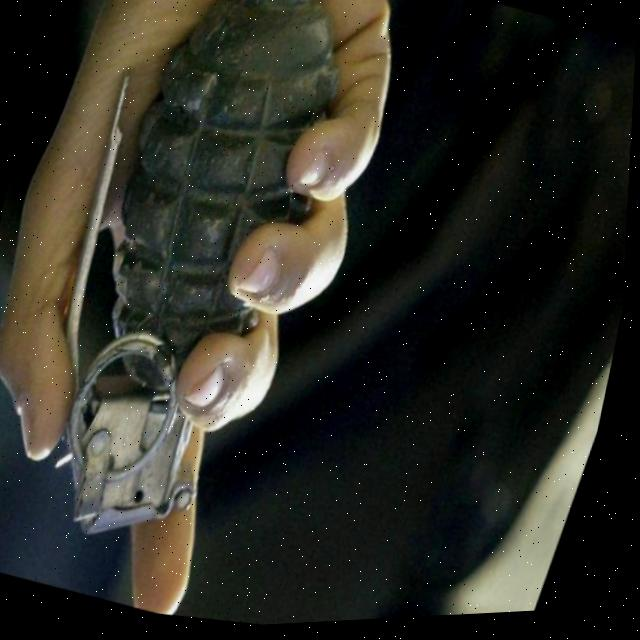grenade: (0, 0, 393, 588)
